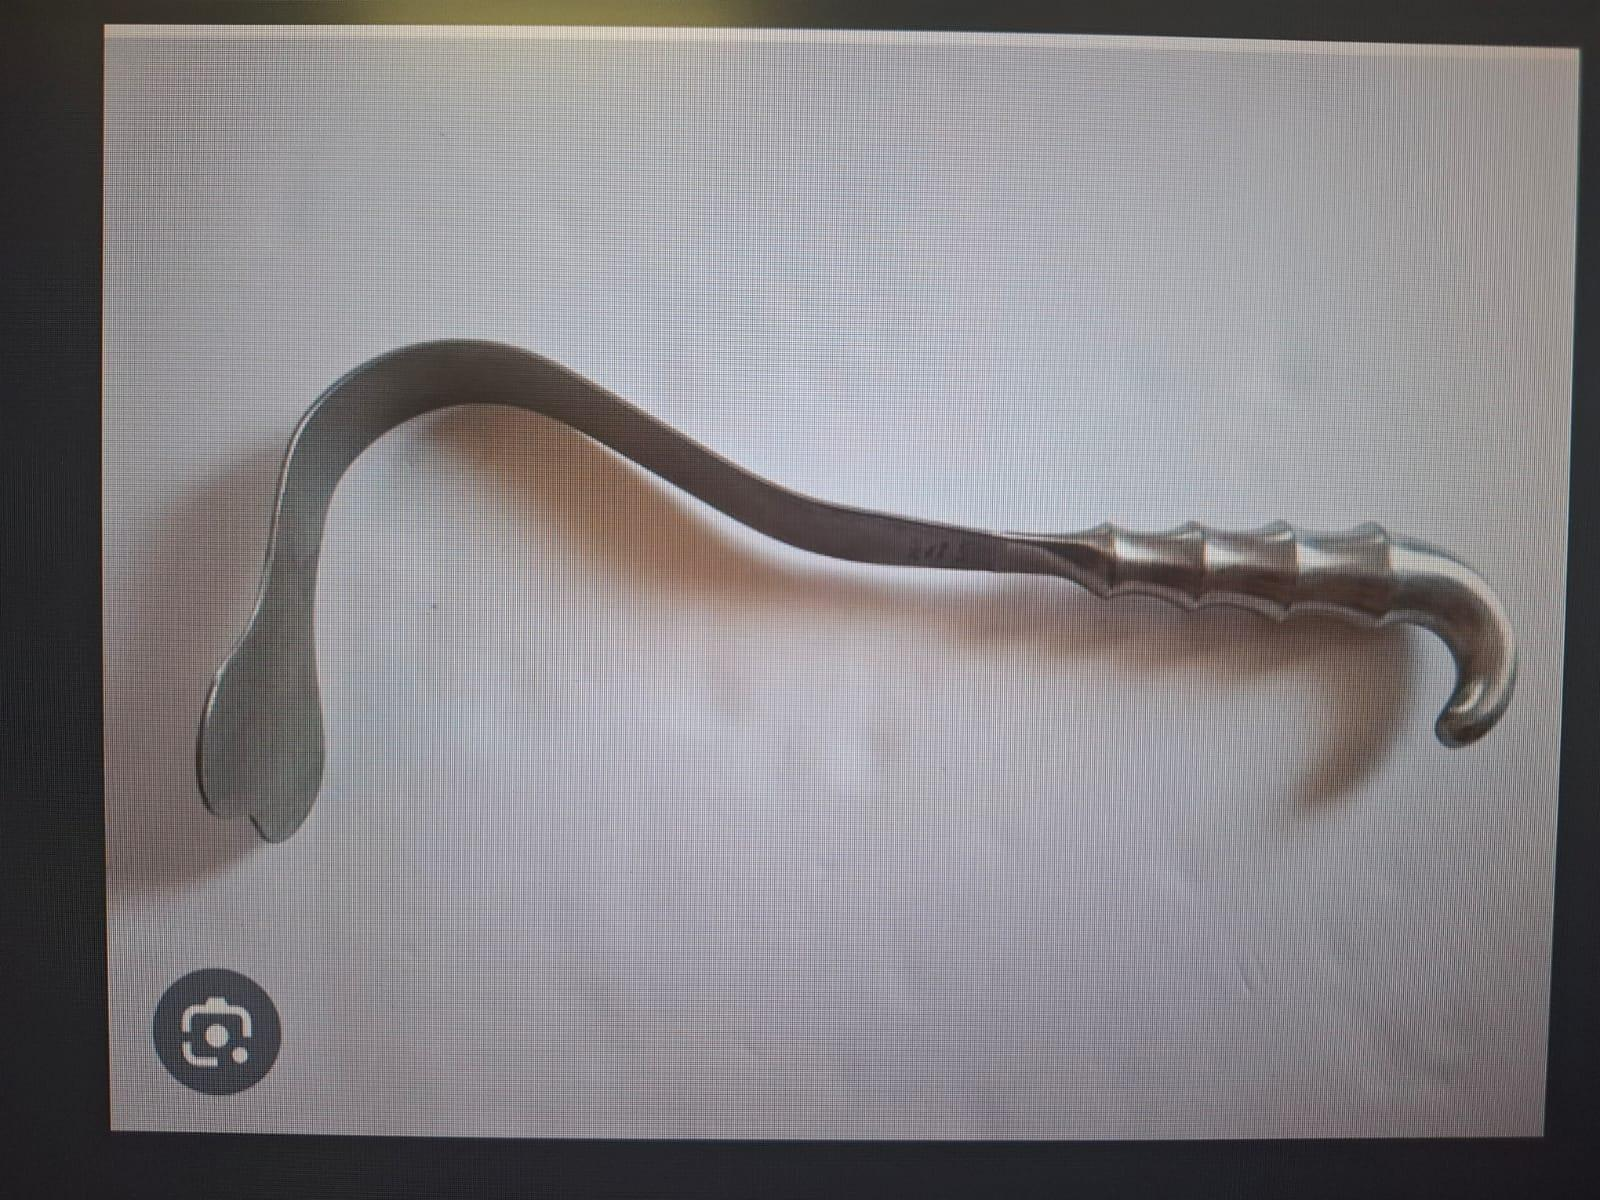Harrington Retractor: (174, 321, 1532, 848)
